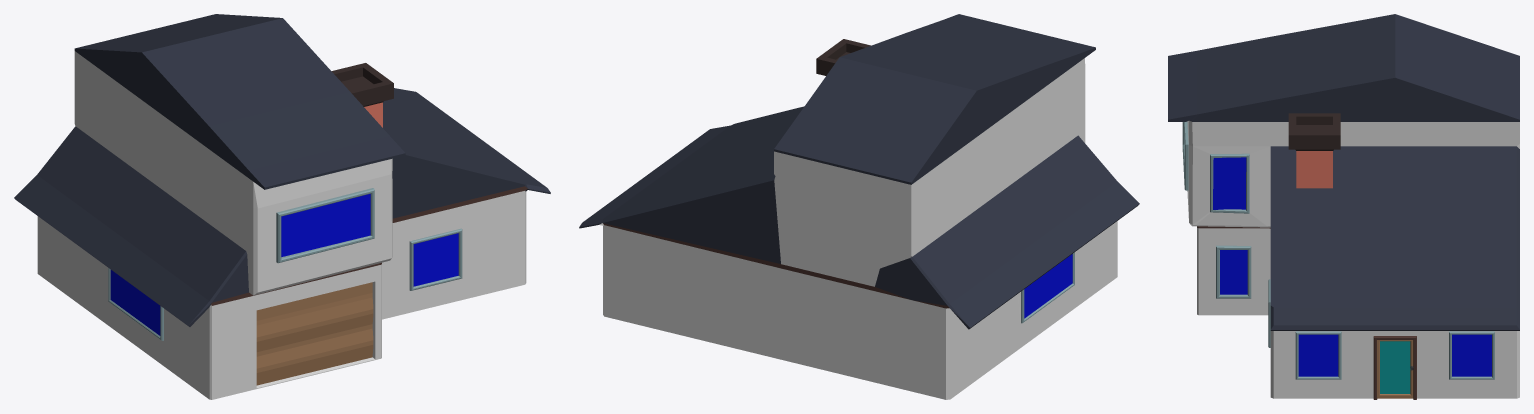
The model's file is House1.fbx.
The picture shows the model from 3 angles, left to right: view 1: azimuth 30°, elevation 25°; view 2: azimuth 150°, elevation 25°; view 3: azimuth 270°, elevation 25°; orthographic projection. The views are drawn at different scales.
Visible parts, largest first — view 1: House1; view 2: House1; view 3: House1.
Boxes of the visible parts, x1=… form: House1: x1=14, y1=14, x2=550, y2=399; House1: x1=579, y1=14, x2=1139, y2=399; House1: x1=1168, y1=14, x2=1519, y2=399.
Size of the model in its own units: 1674 by 1034 by 1370.
